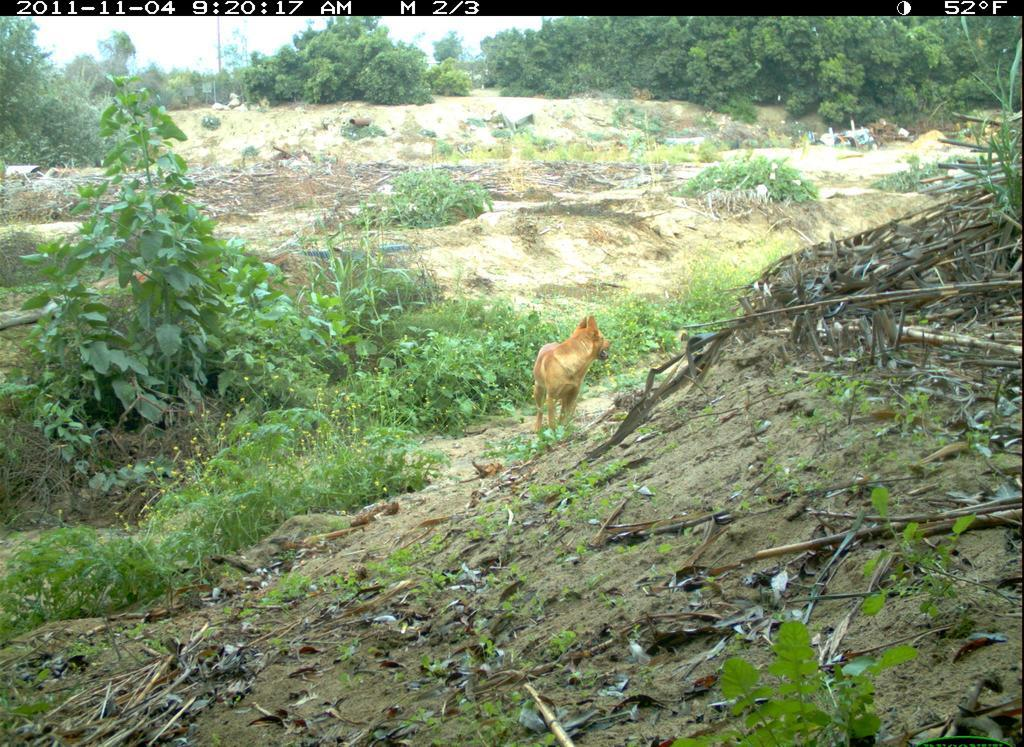dog: (523, 307, 617, 475)
